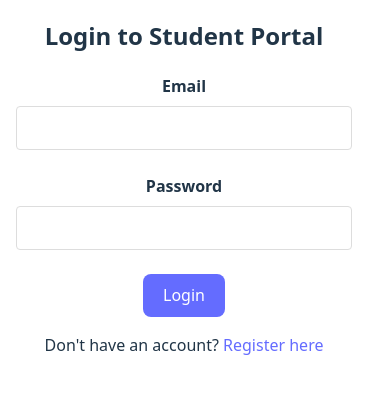
Test: LoginPage › should handle login error
In the field labelled "Email": (184, 128) x1=16 y1=106 x2=352 y2=150, type "student@test.com"
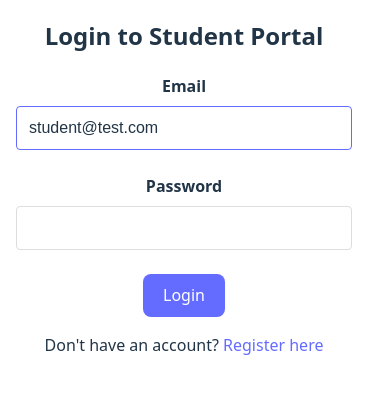
In the password field labelled "Password": (184, 228) x1=16 y1=206 x2=352 y2=250, type "wrongpassword"
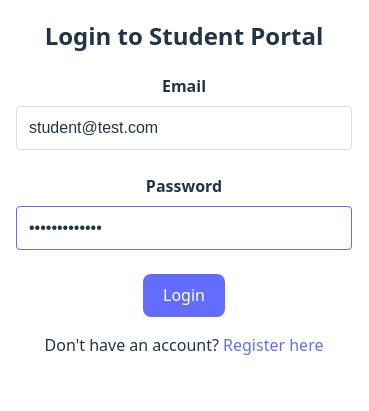
Click the button "Login": (184, 295) x1=143 y1=274 x2=225 y2=317
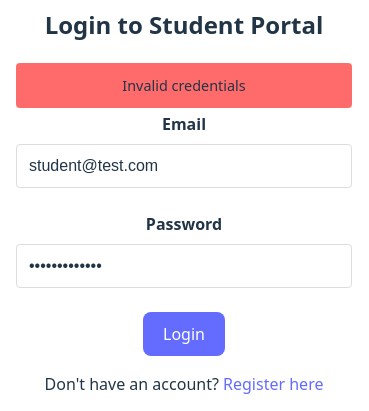
Expected: the text "Invalid credentials" is shown, x1=16 y1=63 x2=352 y2=108
